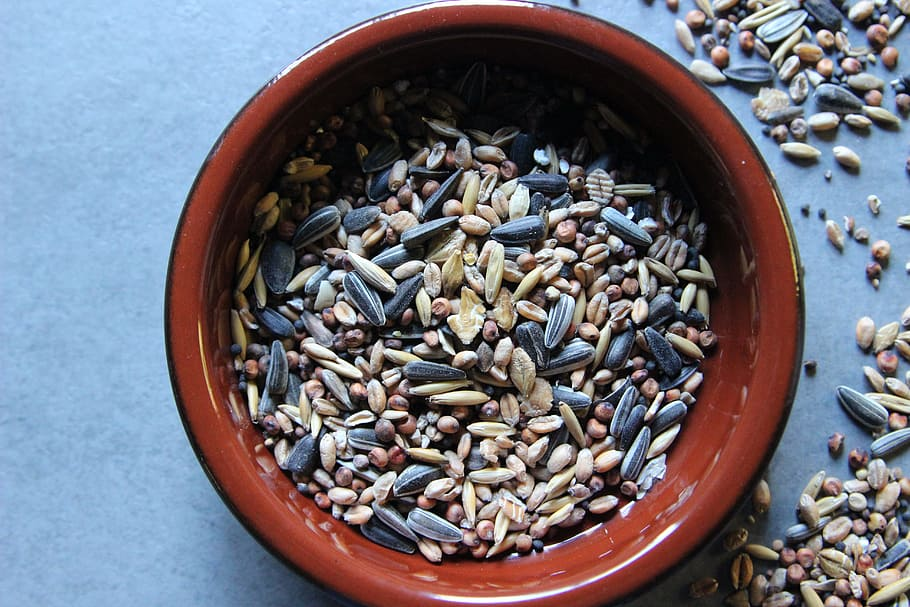seed: (216, 104, 731, 571), (661, 1, 910, 282), (724, 309, 910, 606)
